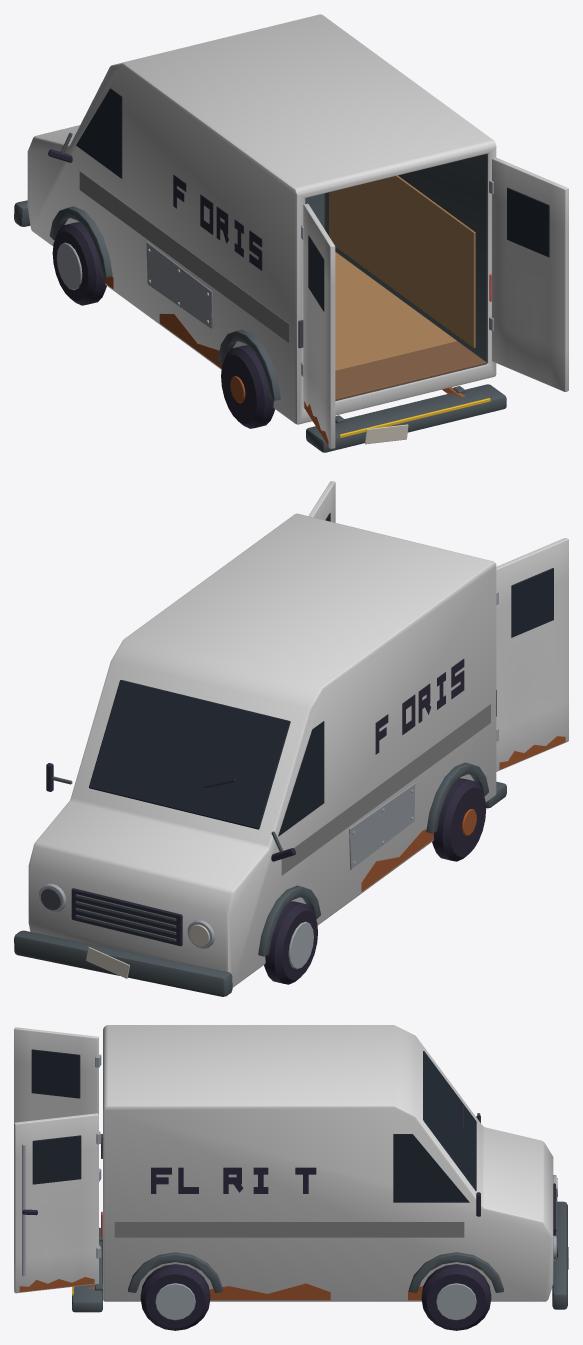
The model's file is van.glb.
The picture shows the model from 3 angles, top to bottom: view 1: azimuth 30°, elevation 25°; view 2: azimuth 150°, elevation 25°; view 3: azimuth 270°, elevation 25°; orthographic projection. The views are drawn at different scales.
Parts seen in each view (by area): view 1: Body, DoorRight, DoorLeft; view 2: Body, DoorLeft, DoorRight; view 3: Body, DoorRight, DoorLeft.
Boxes of the visible parts, x1,y1,x2,y2 form: Body: [14, 14, 506, 452]; DoorRight: [489, 157, 568, 391]; DoorLeft: [301, 203, 335, 448]; Body: [14, 513, 506, 996]; DoorLeft: [496, 538, 568, 771]; DoorRight: [308, 481, 335, 522]; Body: [72, 1025, 568, 1330]; DoorRight: [14, 1113, 101, 1293]; DoorLeft: [14, 1027, 101, 1181].
Bounding box in the file's own units: 2.48 × 2.52 × 5.73.
